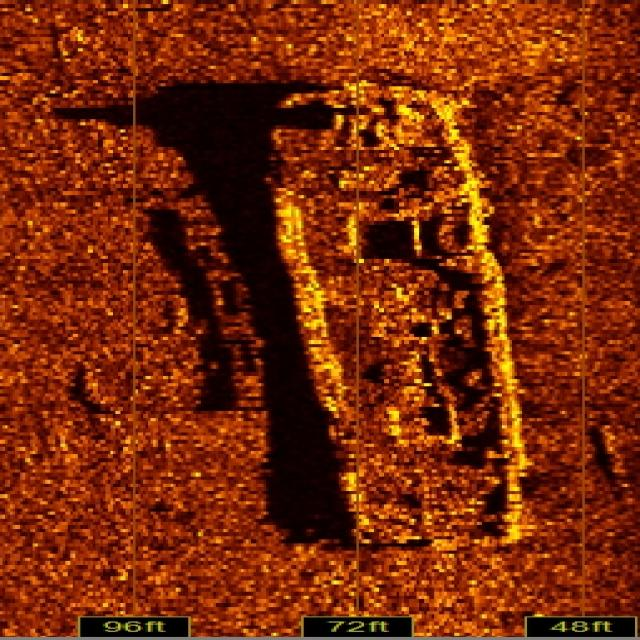ship: (261, 78, 542, 548)
